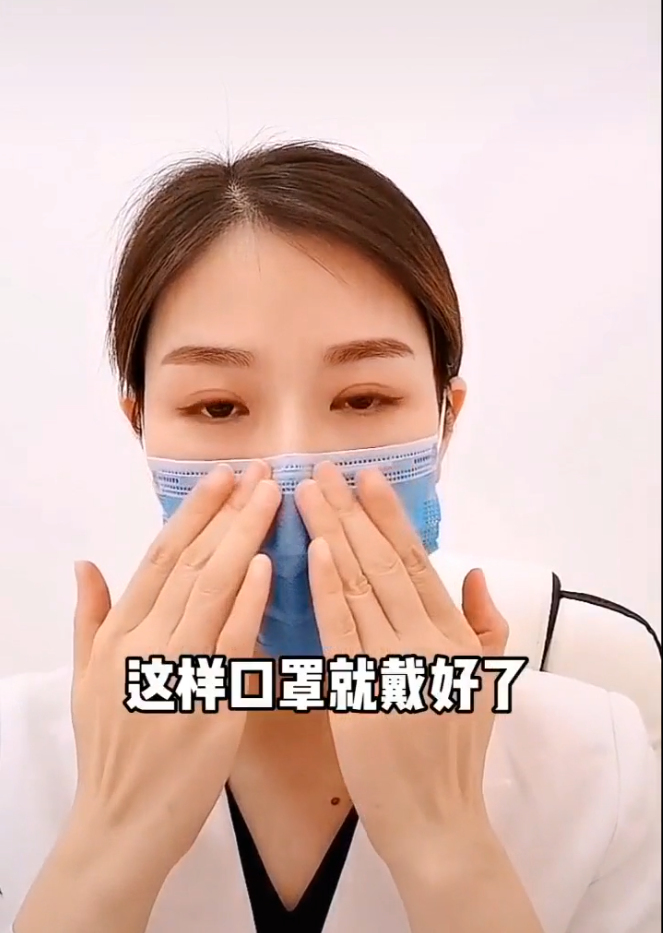face_mask: (143, 249, 439, 632)
